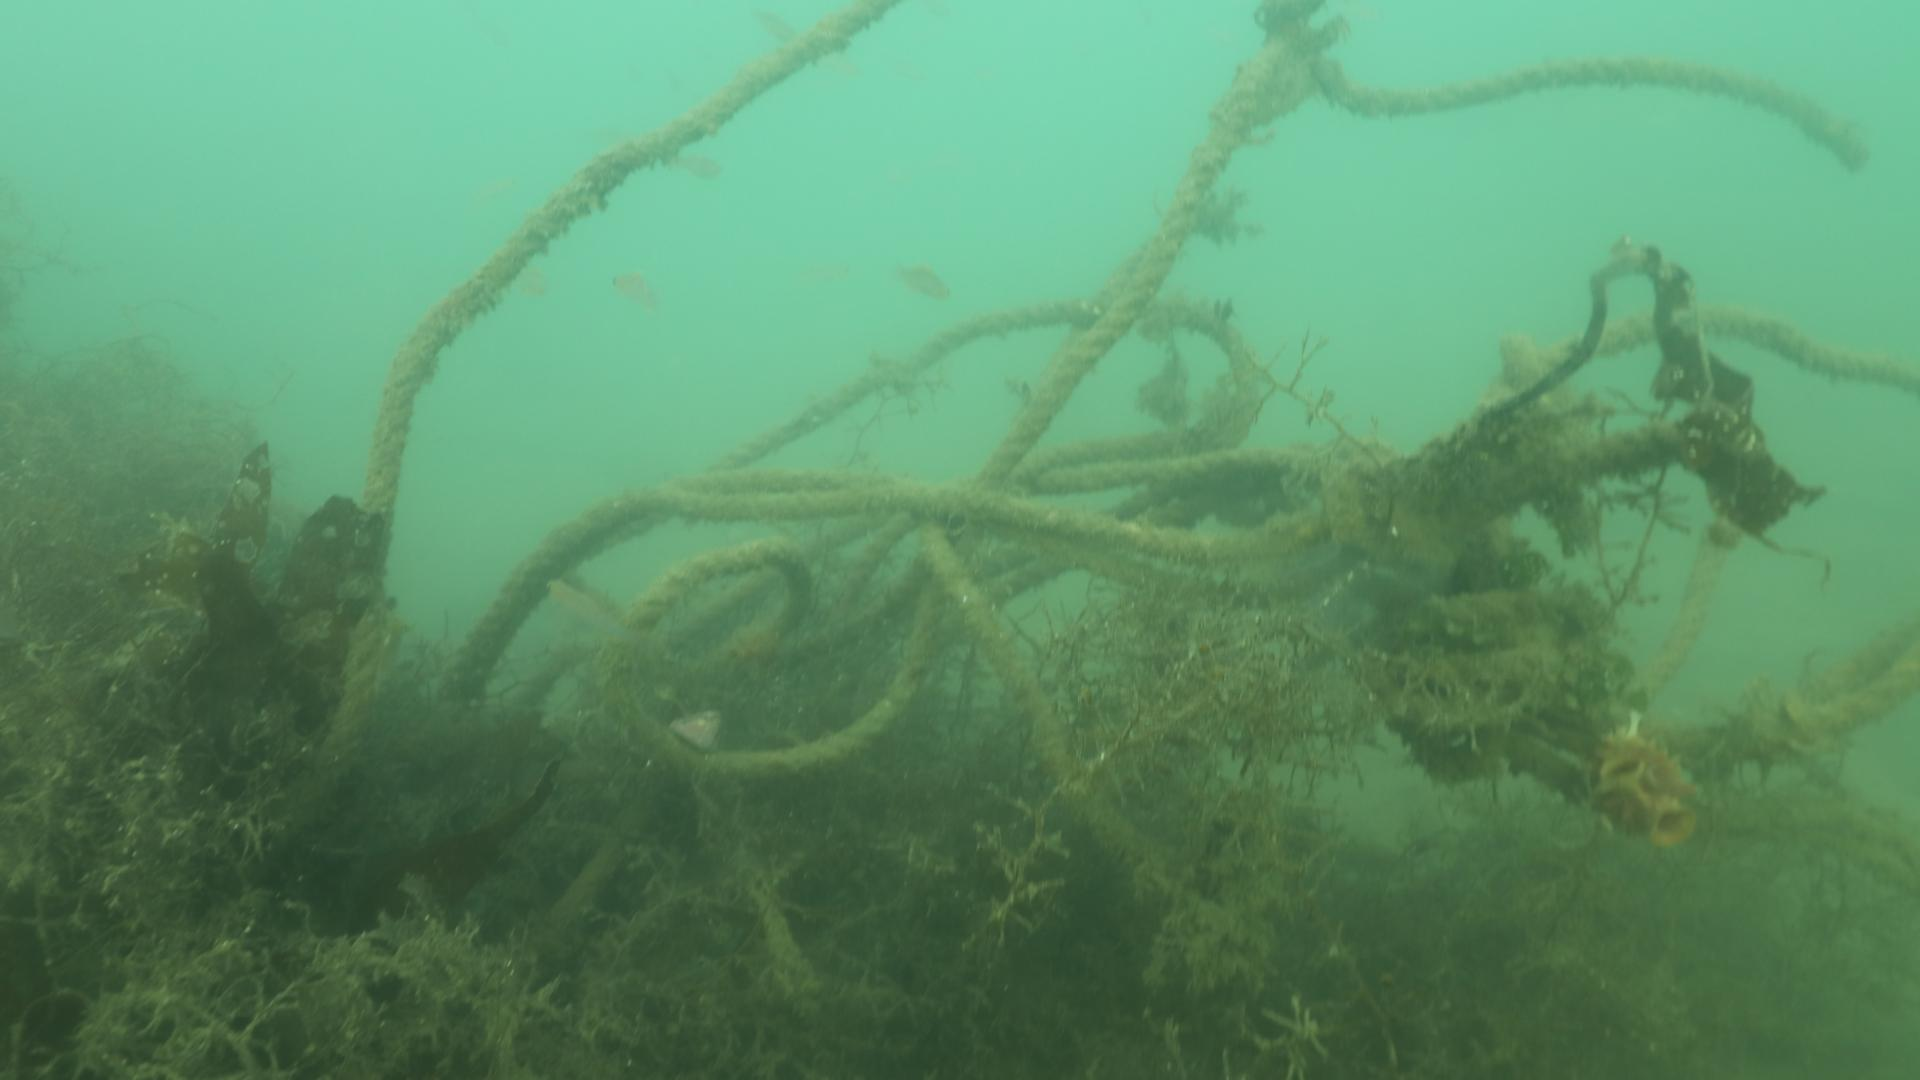bundle of ropes: (262, 5, 1920, 1080)
